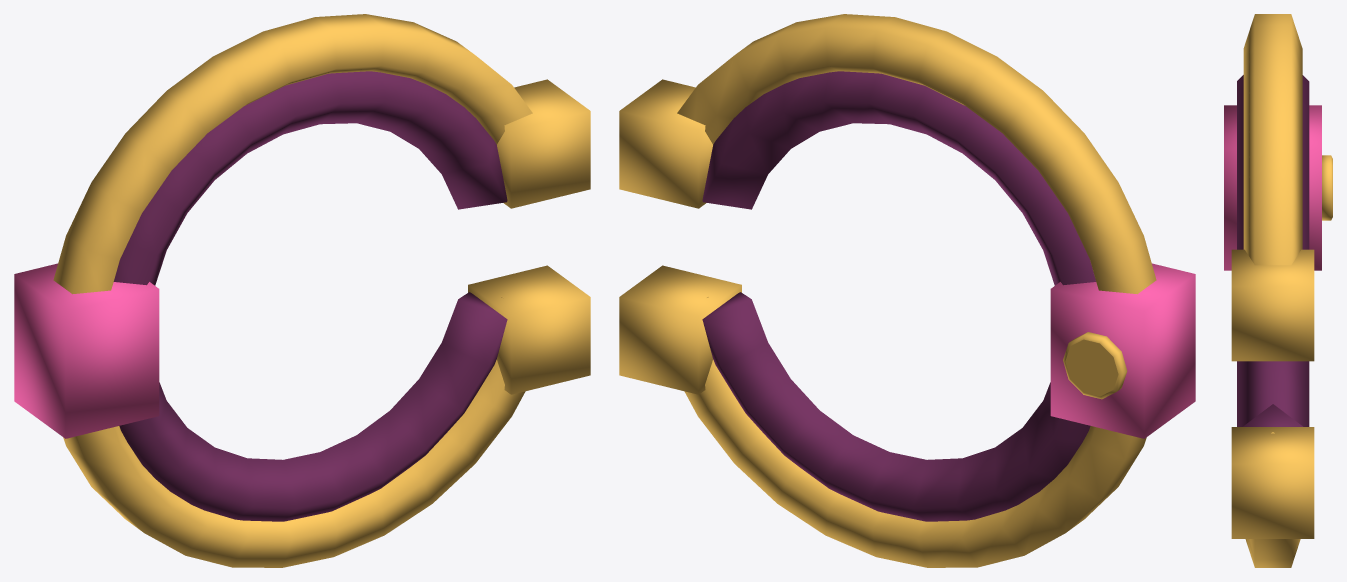
Rendered from toy-tether-cuff.glb.
The picture shows the model from 3 angles, left to right: view 1: azimuth 30°, elevation 25°; view 2: azimuth 150°, elevation 25°; view 3: azimuth 270°, elevation 25°; orthographic projection. The views are drawn at different scales.
Visible parts, largest first — view 1: toy_tether_cuff; view 2: toy_tether_cuff; view 3: toy_tether_cuff.
Boxes of the visible parts, bbox=[...] form: toy_tether_cuff: bbox=[14, 14, 590, 567]; toy_tether_cuff: bbox=[619, 14, 1195, 567]; toy_tether_cuff: bbox=[1224, 14, 1332, 567].
Bounding box in the file's own units: 0.5655 × 0.5372 × 0.1055.
